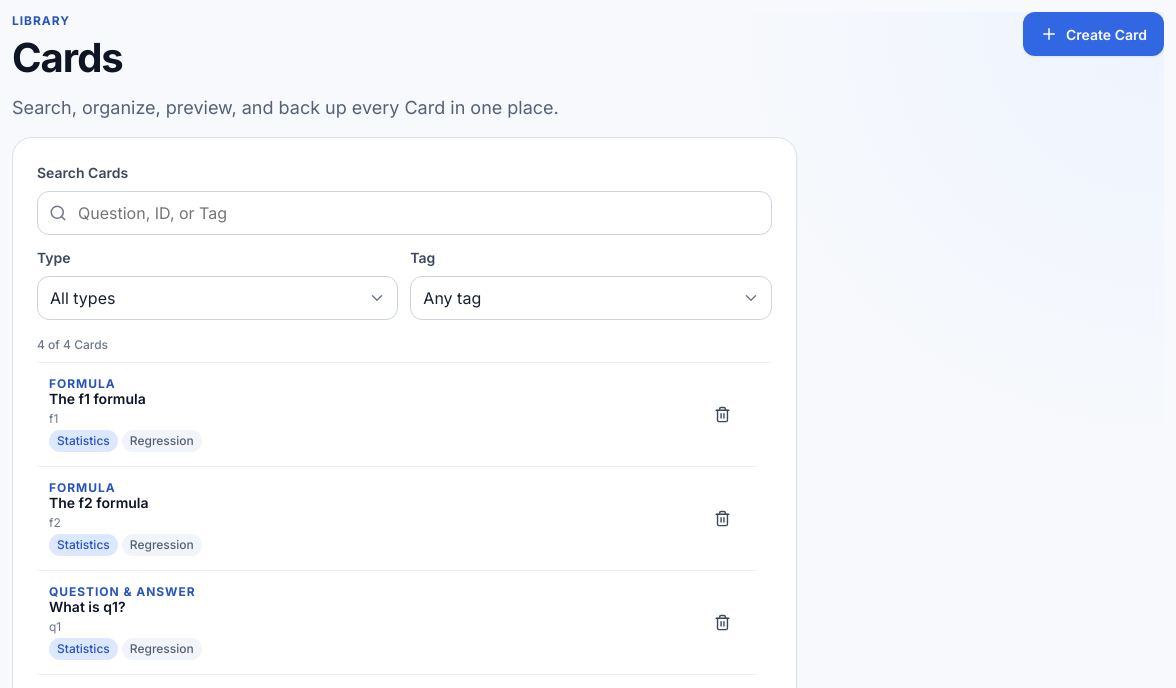
Test: Type and Tag › clearing the search, Type and Tag lists every Card again
The width and height of the screenshot is (1176, 688).
Type "1" into the search field labelled "Search Cards" at (404, 213), box x1=37 y1=191 x2=772 y2=235
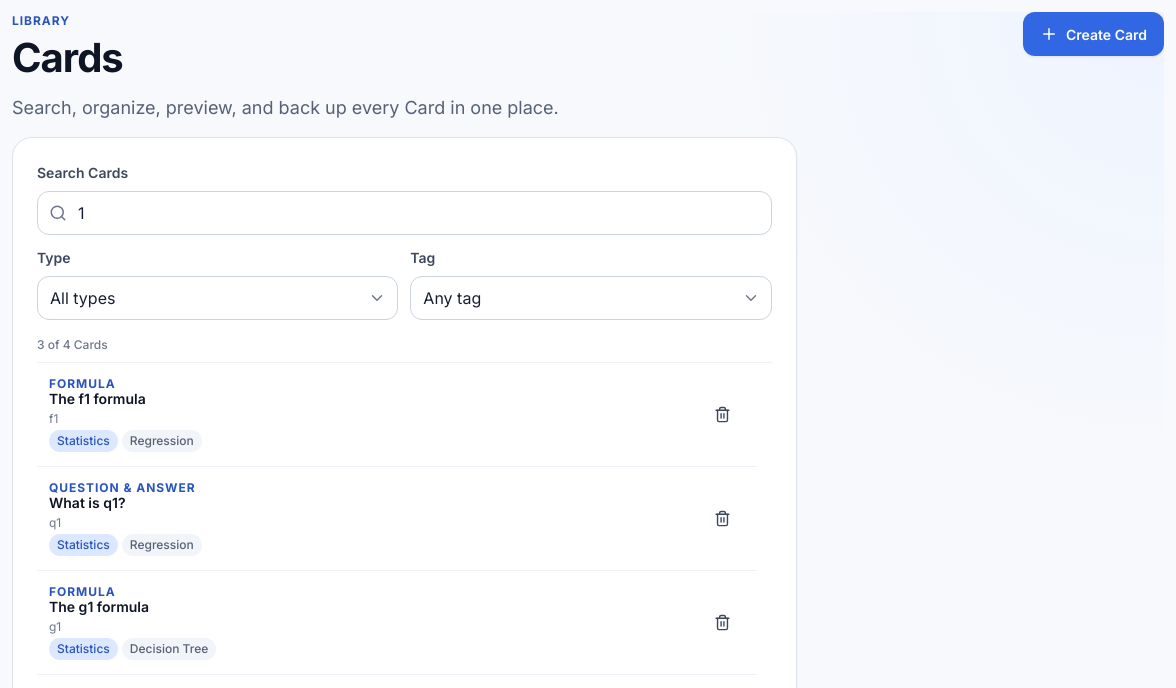
Select "Formula" in the dropdown labelled "Type" at (218, 298), box x1=37 y1=276 x2=398 y2=320
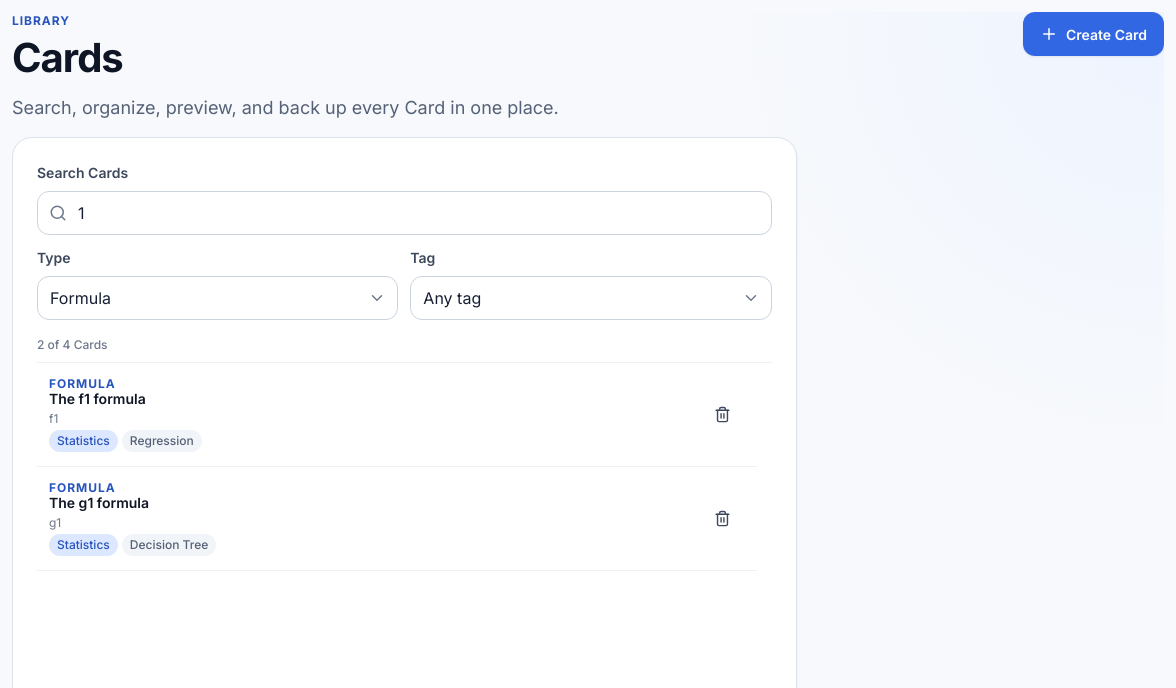
Select "Regression" in the dropdown labelled "Tag" at (591, 298), box x1=410 y1=276 x2=772 y2=320
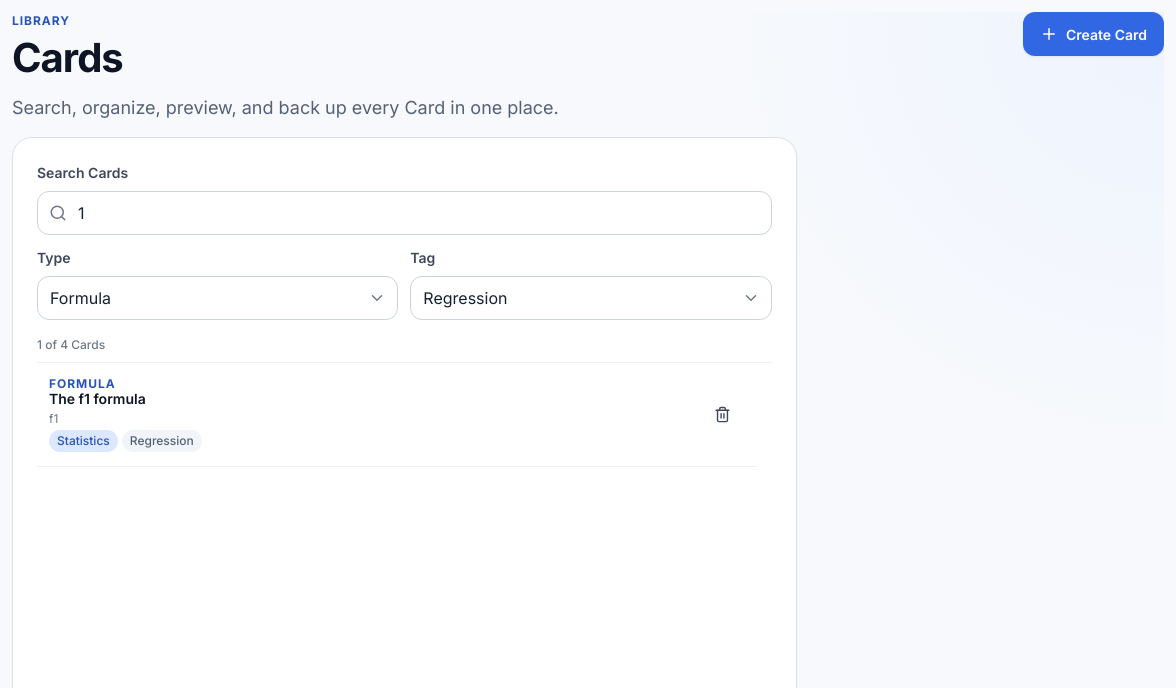
Clear the search field labelled "Search Cards" at (404, 213), box x1=37 y1=191 x2=772 y2=235
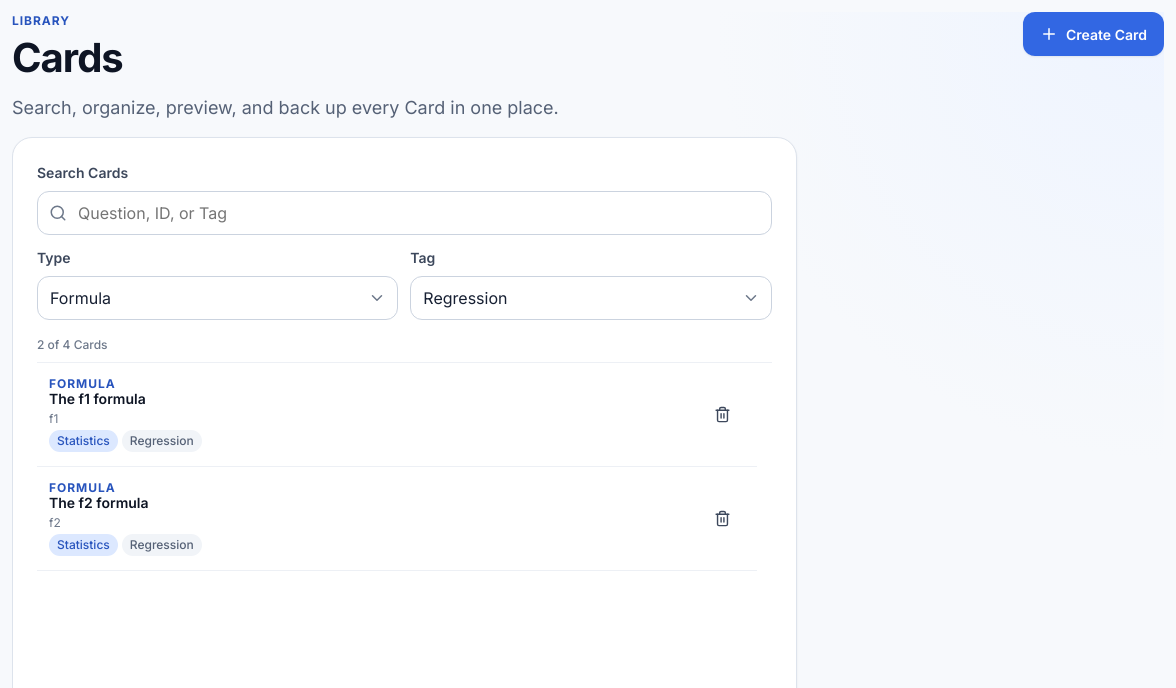
Select "All types" in the dropdown labelled "Type" at (218, 298), box x1=37 y1=276 x2=398 y2=320
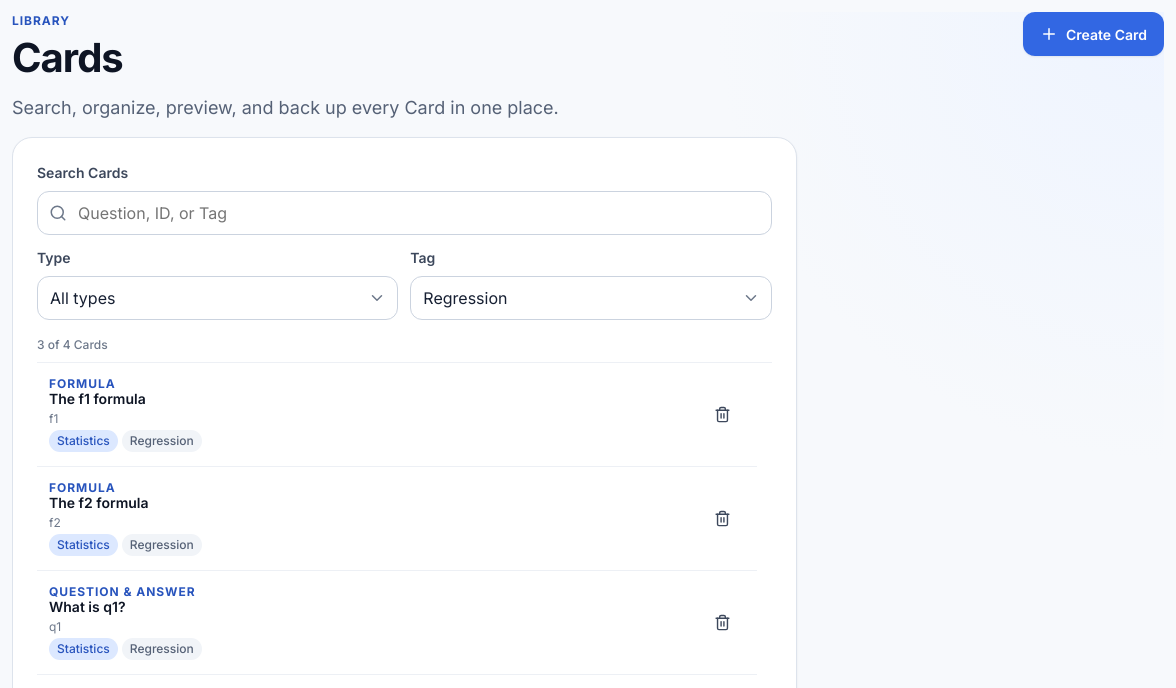
Select "Any tag" in the dropdown labelled "Tag" at (591, 298), box x1=410 y1=276 x2=772 y2=320
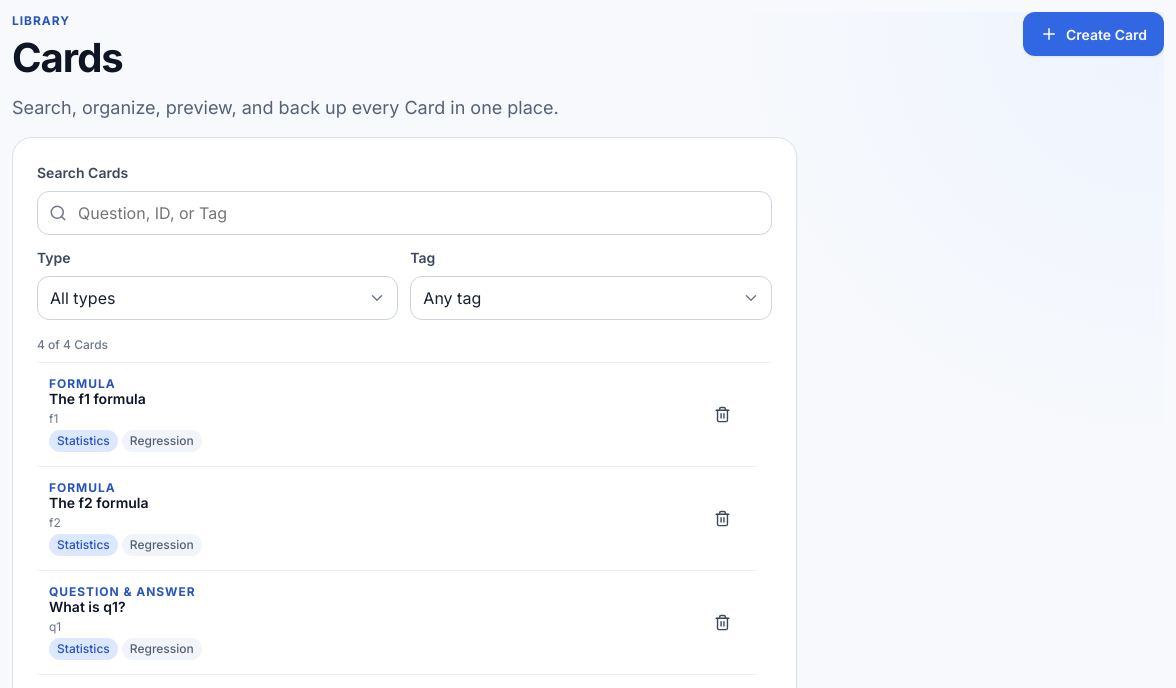
Check: the text "4 of 4 Cards" is shown, box x1=37 y1=336 x2=108 y2=354
